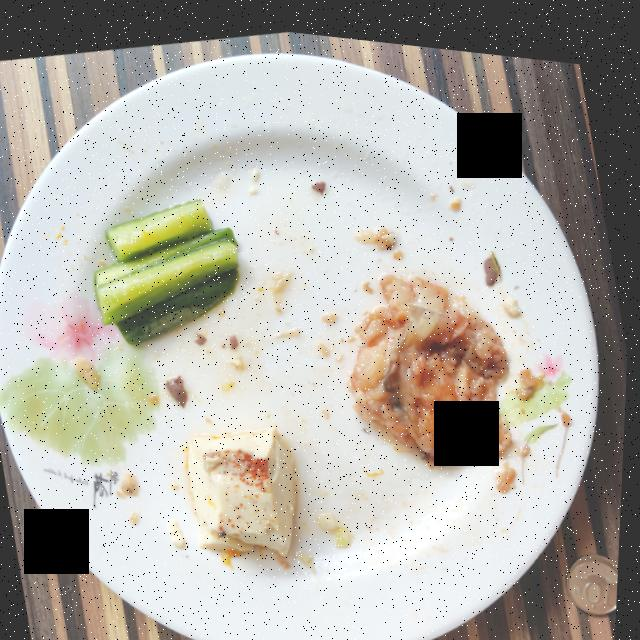Kabayaki sea bream fillet: (352, 265, 515, 452)
coin: (571, 539, 623, 600)
cucumber: (96, 194, 241, 341)
